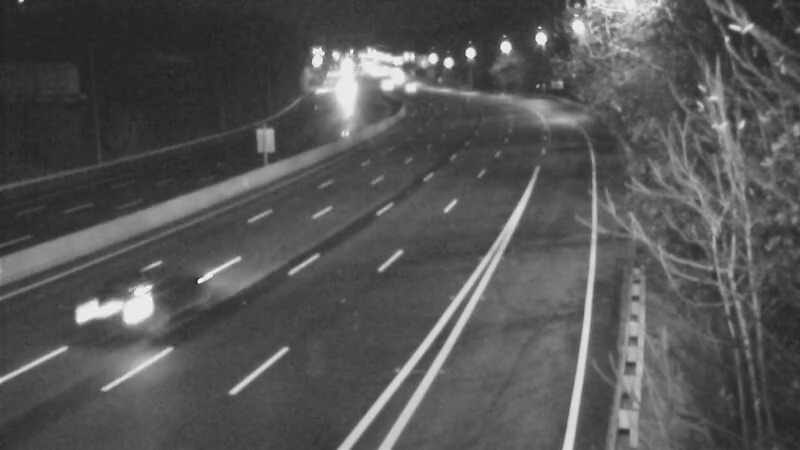vehicle: (59, 253, 169, 363)
